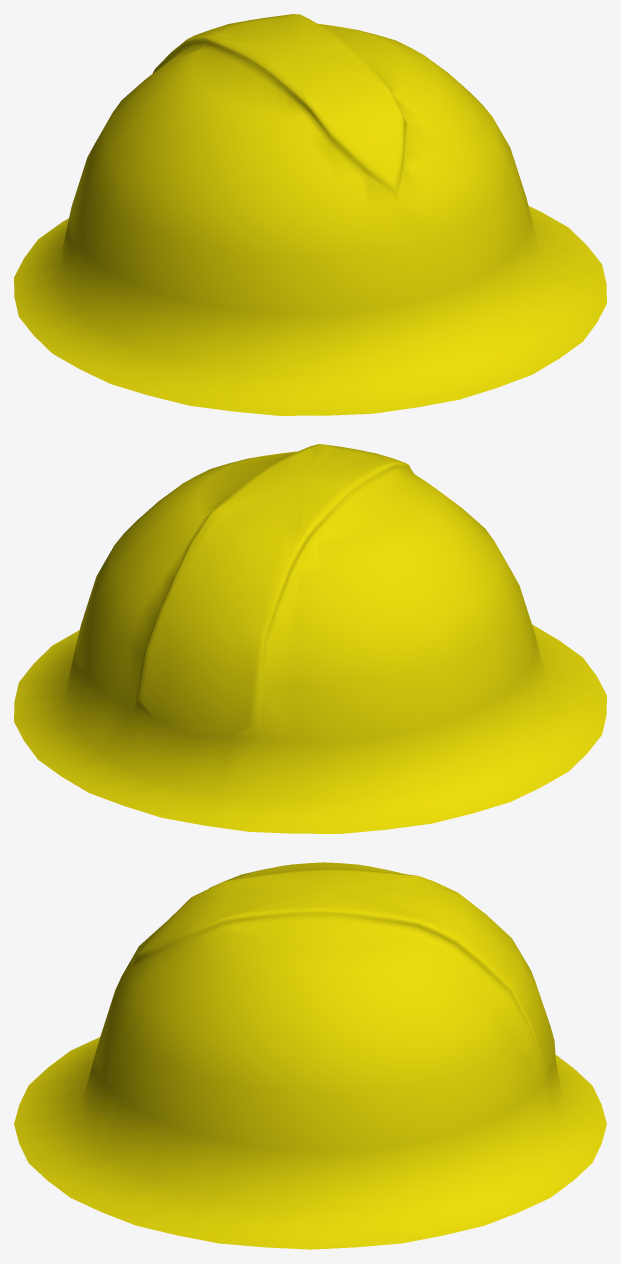
The model's file is HardHat_v2_lp.fbx.
3 views of the same model, one above another, from view 1: azimuth 30°, elevation 25°; view 2: azimuth 150°, elevation 25°; view 3: azimuth 270°, elevation 25° (orthographic).
Parts seen in each view (by area): view 1: HardHat_v2_lp; view 2: HardHat_v2_lp; view 3: HardHat_v2_lp.
Boxes of the visible parts, x1,y1,x2,y2 form: HardHat_v2_lp: [14, 14, 606, 415]; HardHat_v2_lp: [14, 444, 606, 833]; HardHat_v2_lp: [14, 862, 606, 1249].
Bounding box in the file's own units: 1010 × 444 × 1010.
